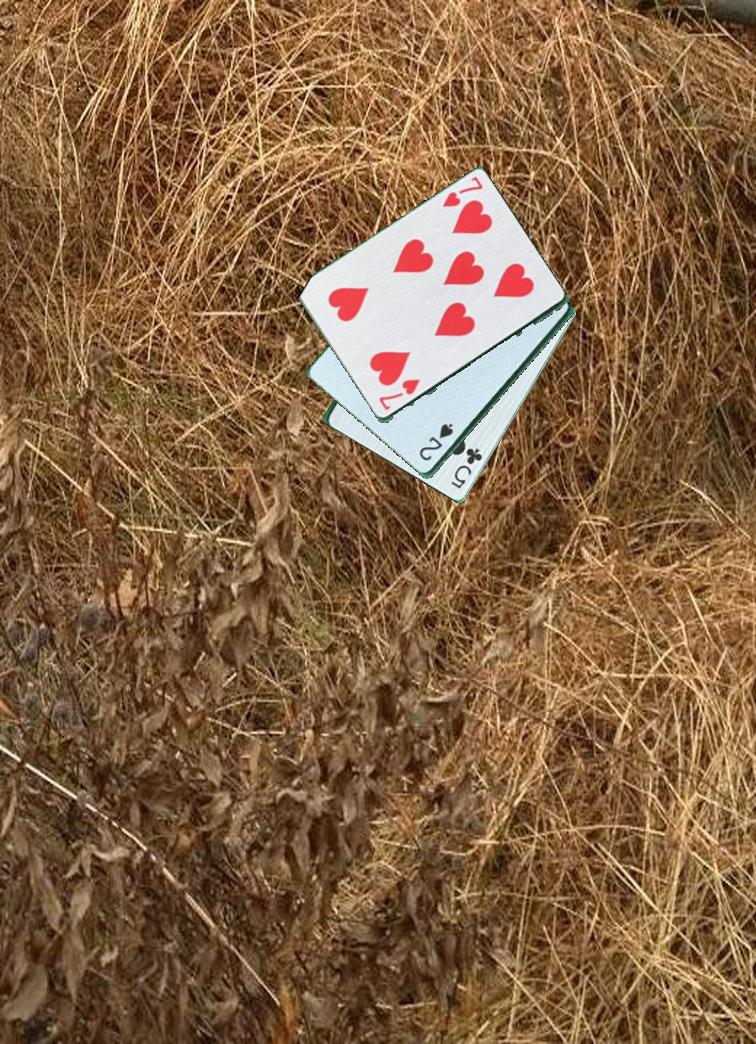2s: (412, 420, 457, 464)
5c: (448, 445, 488, 492)
7h: (438, 173, 490, 219), (375, 376, 423, 414)
